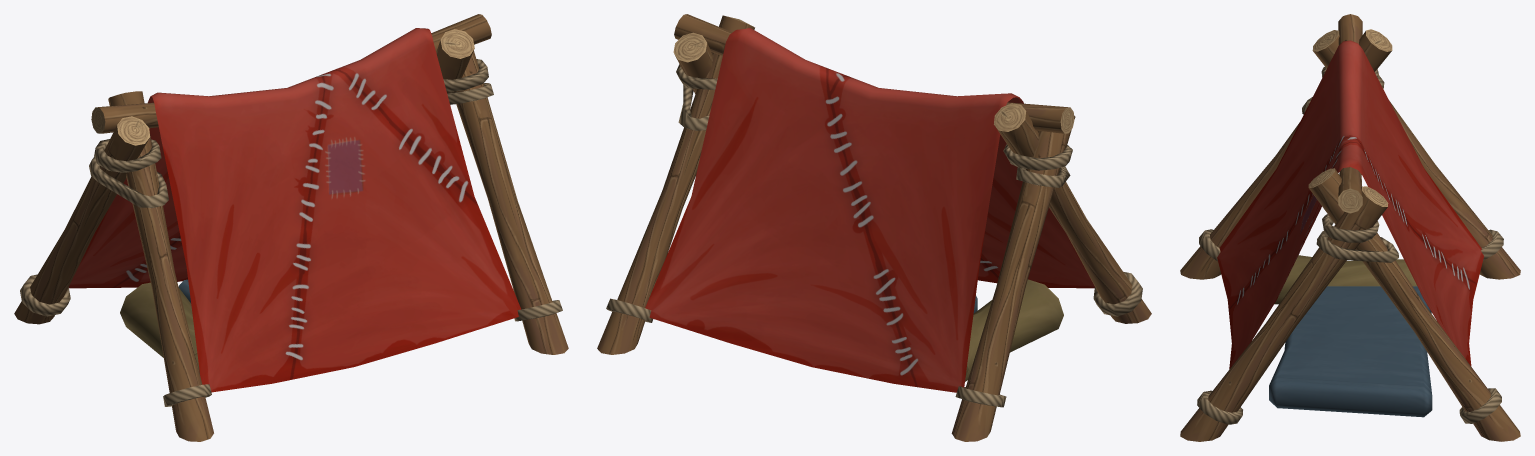
File: Camp2_tent.fbx
The picture shows the model from 3 angles, left to right: view 1: azimuth 30°, elevation 25°; view 2: azimuth 150°, elevation 25°; view 3: azimuth 270°, elevation 25°; orthographic projection. The views are drawn at different scales.
Visible parts, largest first — view 1: polySurface1180; view 2: polySurface1180; view 3: polySurface1180.
Part boxes in pixels (x1,y1,x2,y2): polySurface1180: [14, 14, 568, 441]; polySurface1180: [597, 14, 1151, 441]; polySurface1180: [1180, 14, 1520, 441].
Bounding box in the file's own units: 157 × 103 × 125.
Materials: 1 (1 with a texture image).
